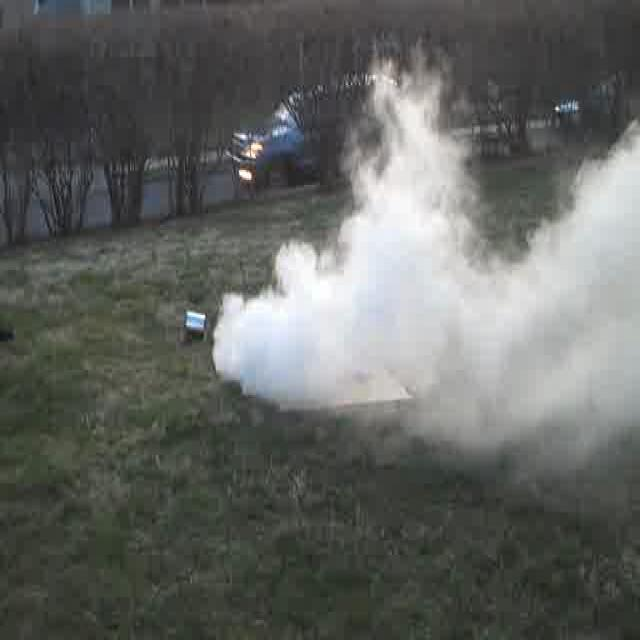Smoke: (232, 196, 638, 432)
